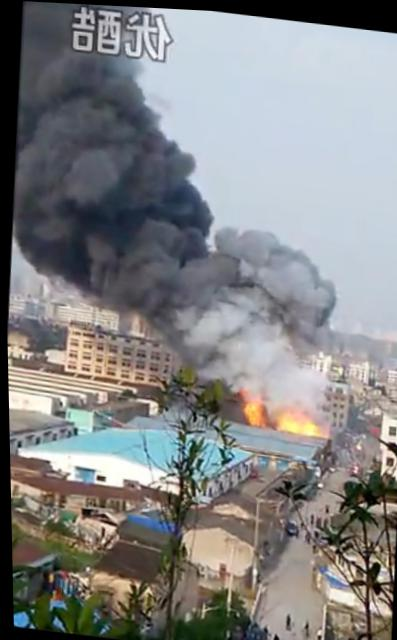fire: (276, 406, 324, 433), (241, 390, 271, 424)
